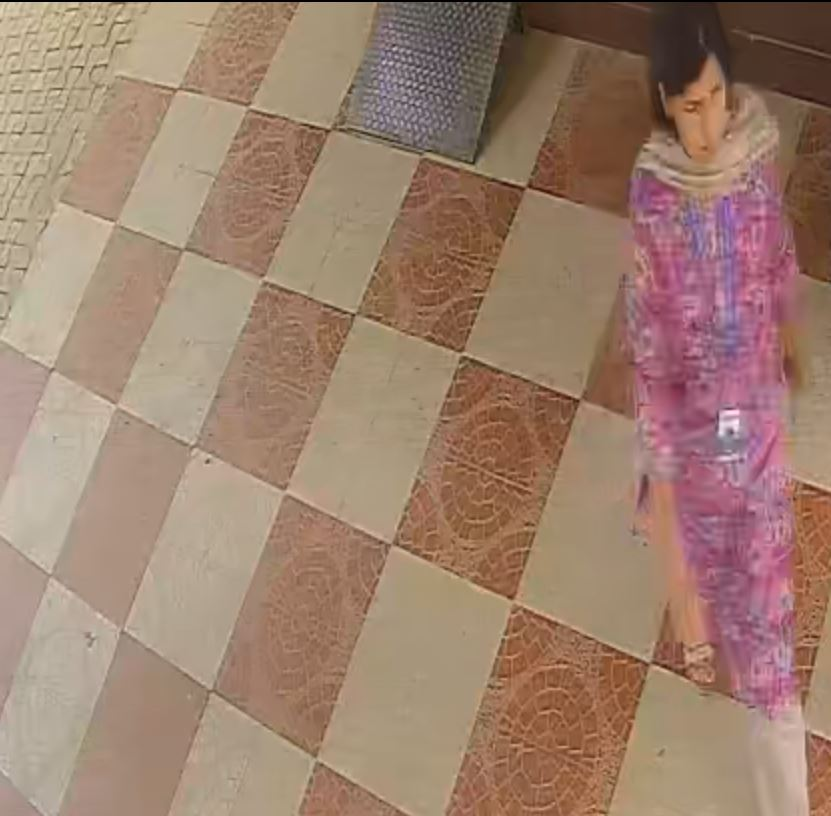not intruder: (625, 5, 803, 816)
